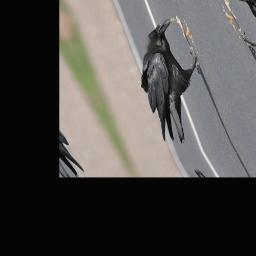Crow: (115, 16, 230, 150)
